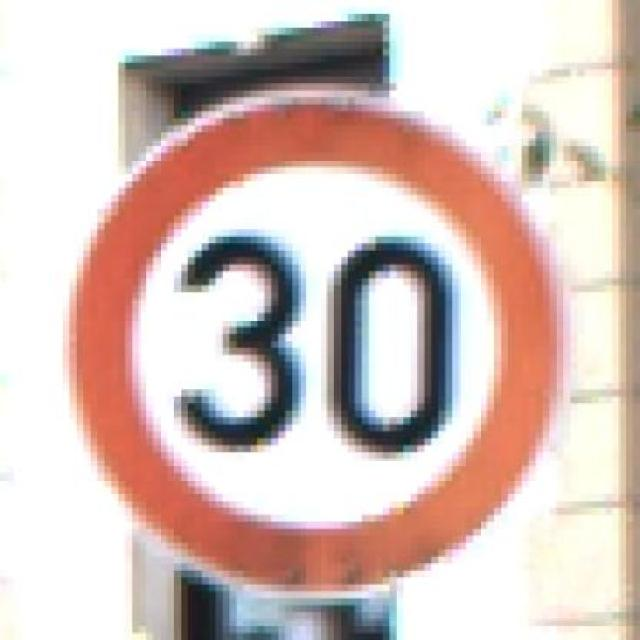Speed Limit 30 KMPh: (49, 55, 606, 612)
